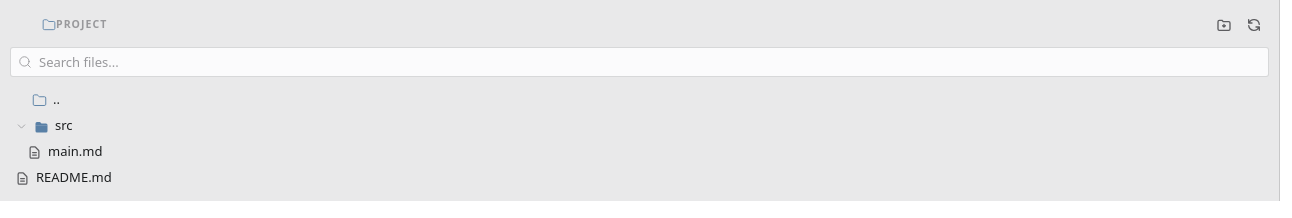
Test: FileExplorer › should filter file tree based on search query
Type "main" into the search field. click: (640, 62)
box: [10, 47, 1269, 77]
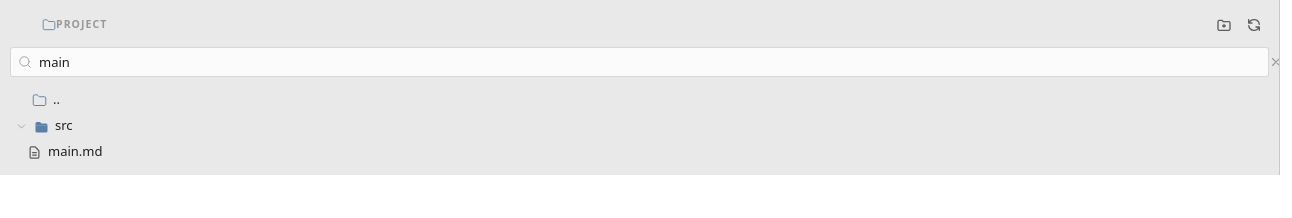
Check: the text "main.md" is shown, box [48, 142, 102, 162]
Check: the text "README.md" is gone
